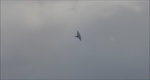maybay_muctieu: (73, 30, 82, 42)
